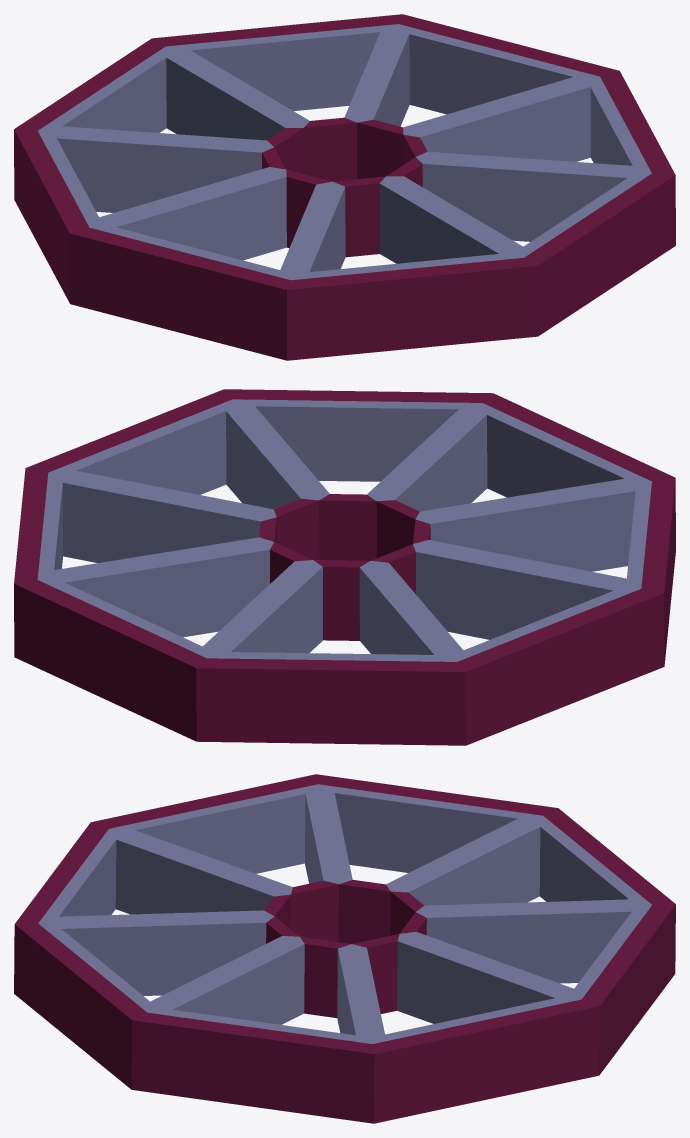
File: Aspa2.fbx
3 renders of one model, top to bottom at view 1: azimuth 30°, elevation 25°; view 2: azimuth 150°, elevation 25°; view 3: azimuth 270°, elevation 25°, orthographic. The views are drawn at different scales.
Visible parts, largest first — view 1: Aspas3; view 2: Aspas3; view 3: Aspas3.
Part boxes in pixels (x1=…): Aspas3: x1=14, y1=14, x2=675, y2=360; Aspas3: x1=14, y1=389, x2=675, y2=745; Aspas3: x1=14, y1=774, x2=675, y2=1123.
Size of the model in its own units: 1962 by 244 by 1964.
